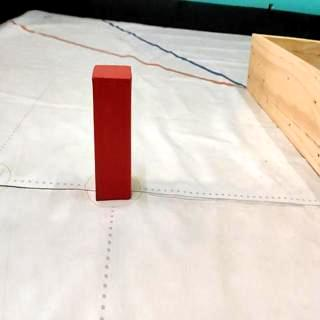redbox: (92, 64, 132, 202)
